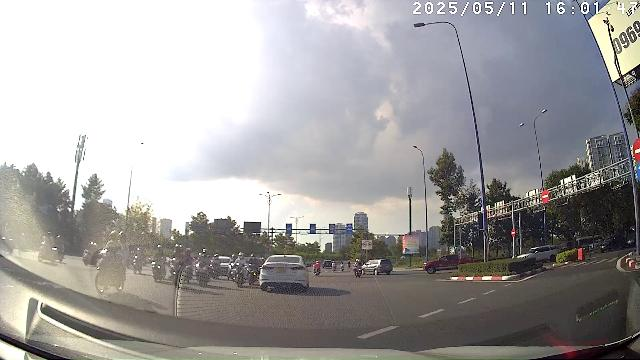102-cam-di-nguoc-chieu: (541, 190, 550, 203), (511, 229, 516, 237)
